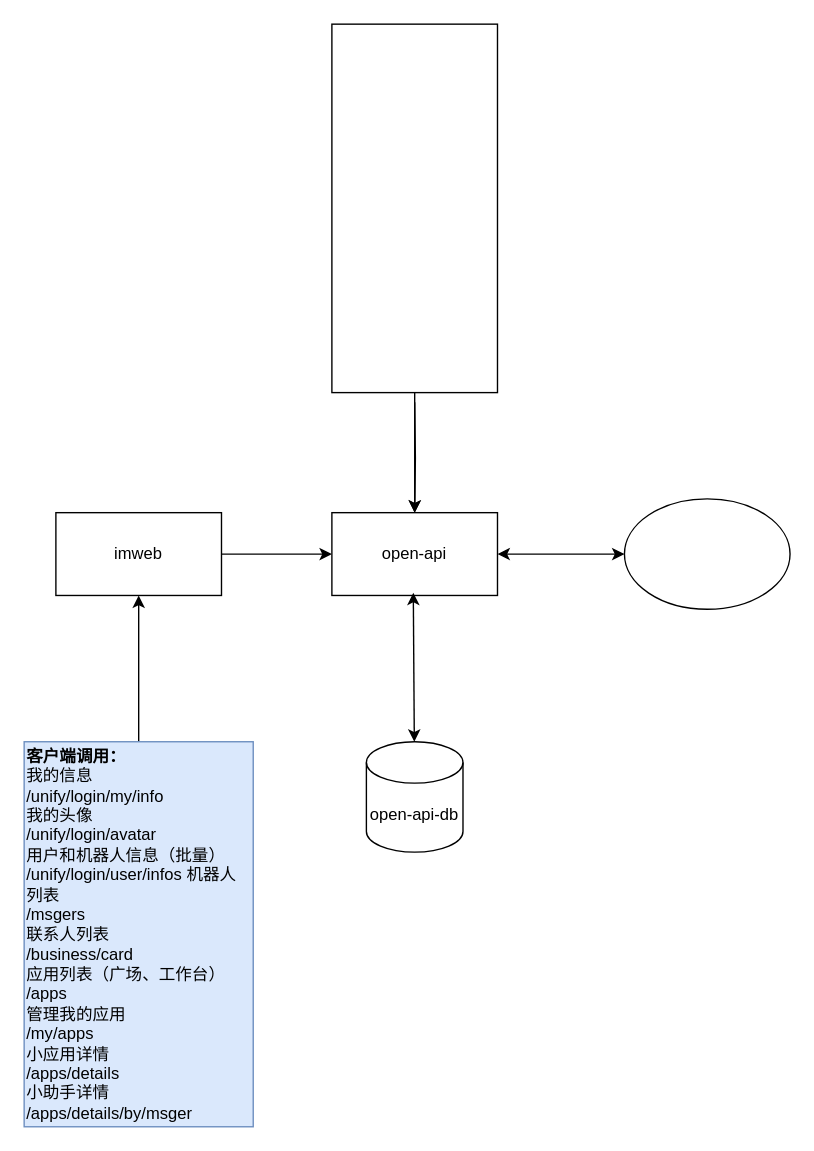
The diagram is 814 pixels wide and 1151 high, and some of its shapes have lost their labels. The centre of each missing label's shape, as x and y in pixels:
"小应用后台管理" belongs at [706,553].
"开发者调用接口： 1" belongs at [414,208].
